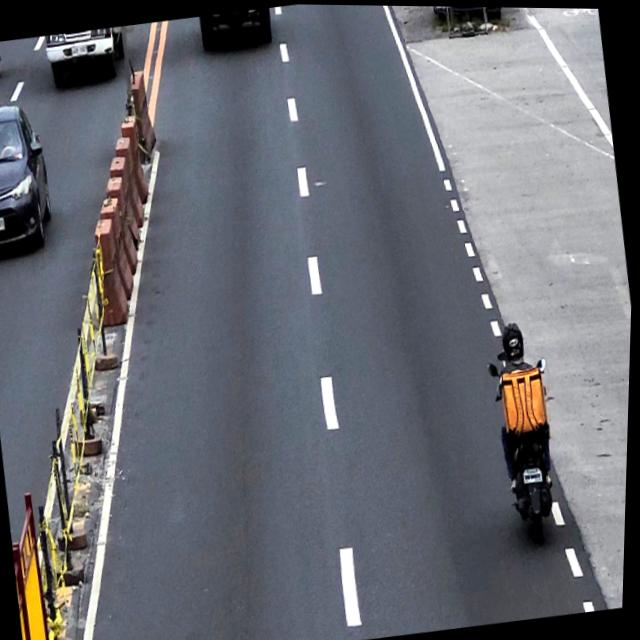License-Plate: (524, 465, 547, 484)
Motorcycle: (484, 349, 574, 546)
